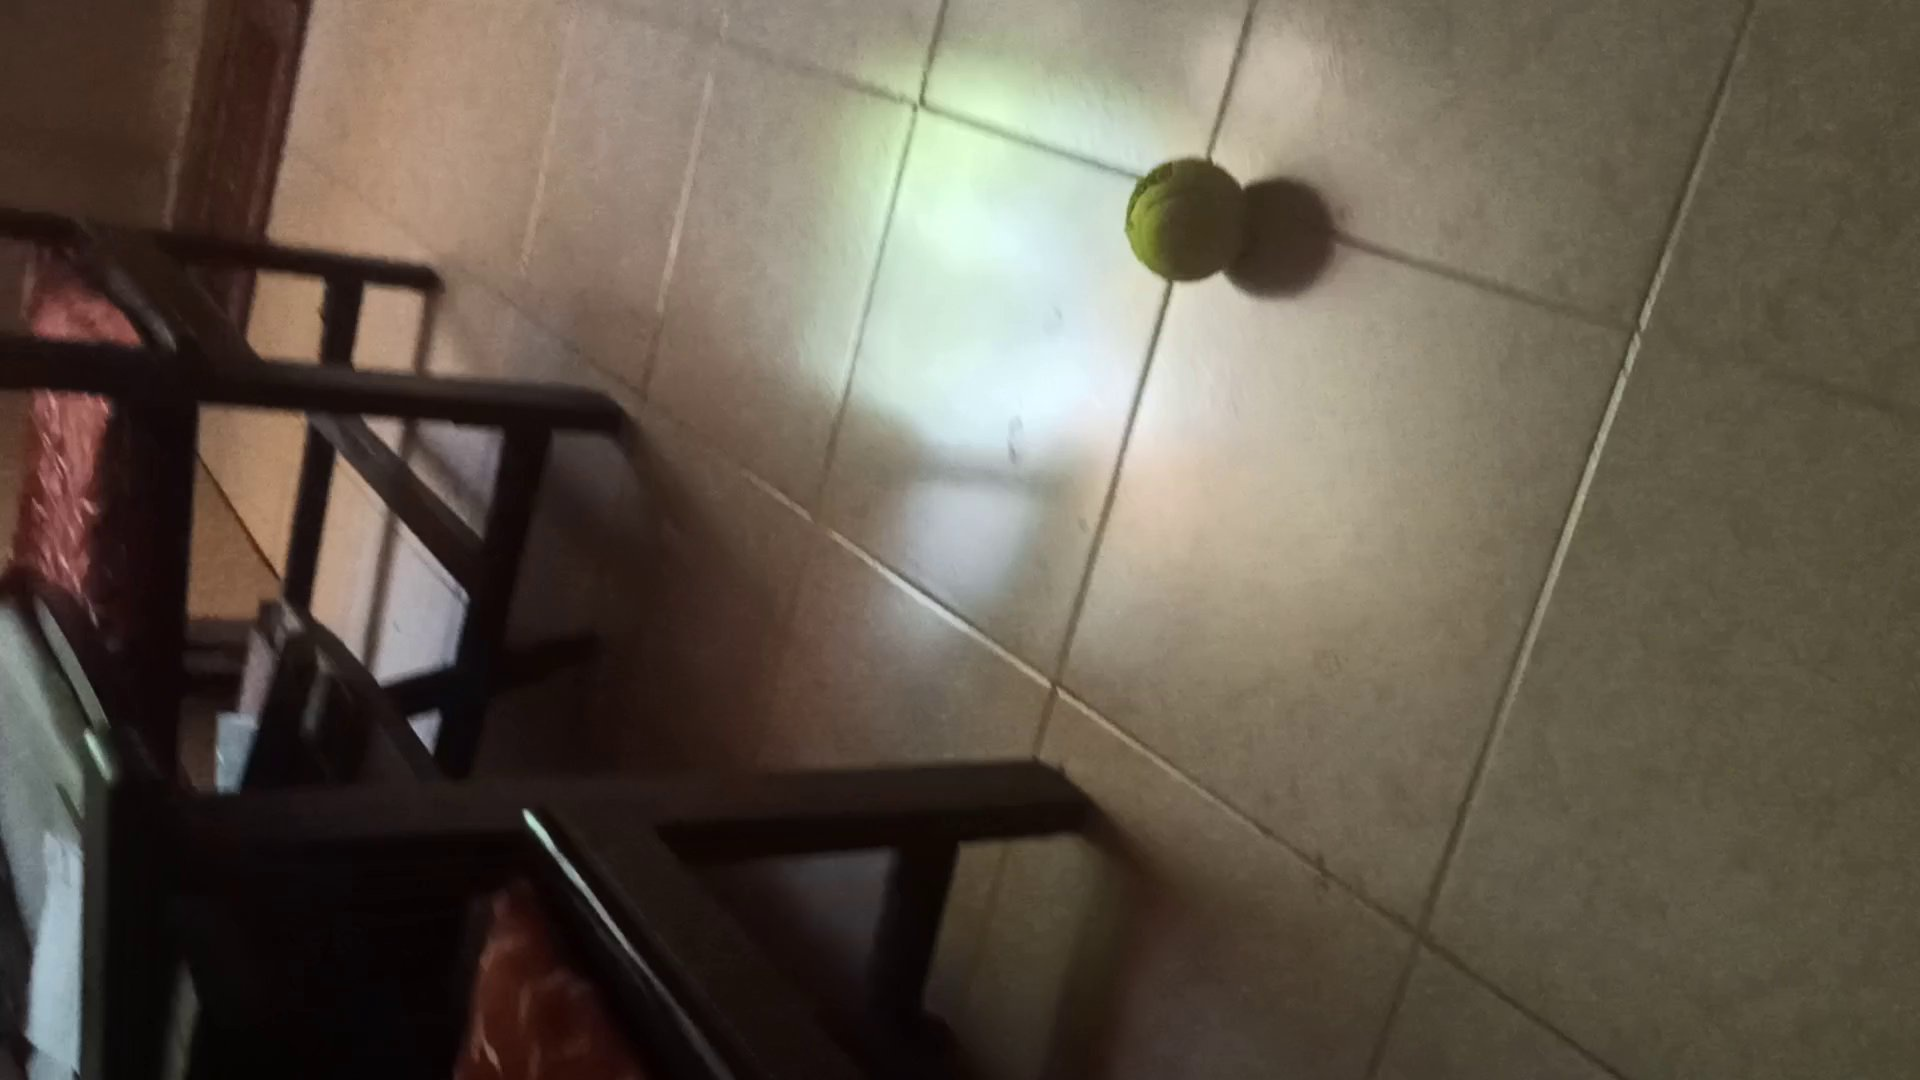Tennis-Ball: (1125, 156, 1247, 286)
